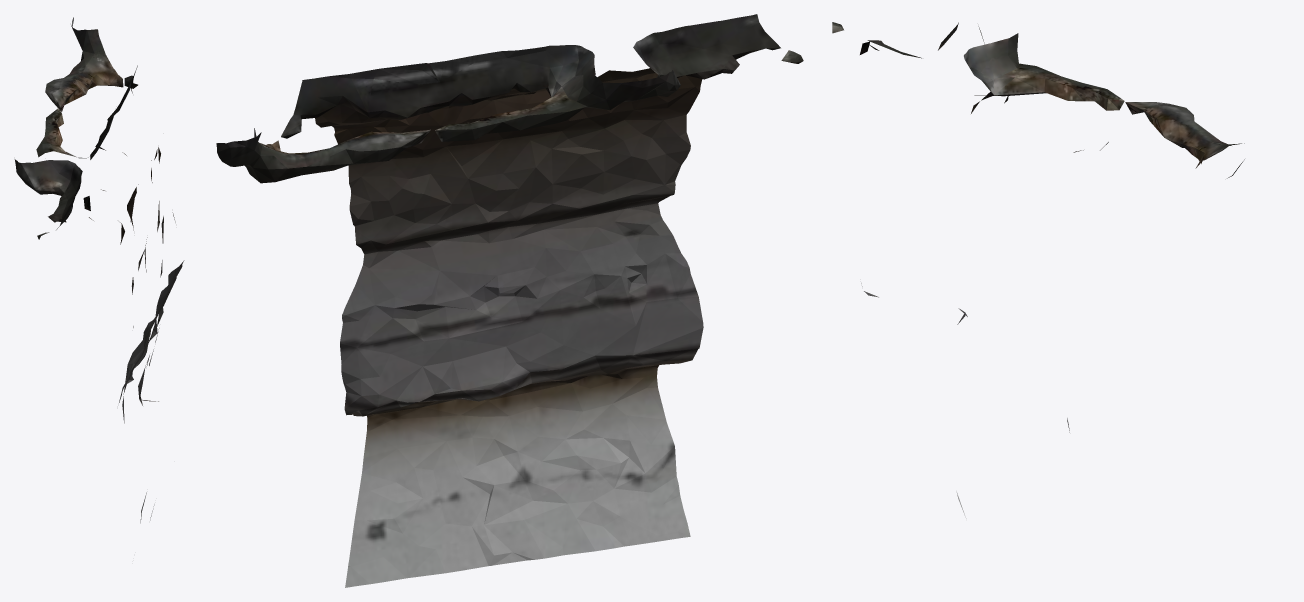
3 views of the same model, side by side, from view 1: azimuth 30°, elevation 25°; view 2: azimuth 150°, elevation 25°; view 3: azimuth 270°, elevation 25° (orthographic). The views are drawn at different scales.
Bounding box in the file's own units: 0.5201 × 0.8373 × 0.7539.
2 materials, 2 textured.
